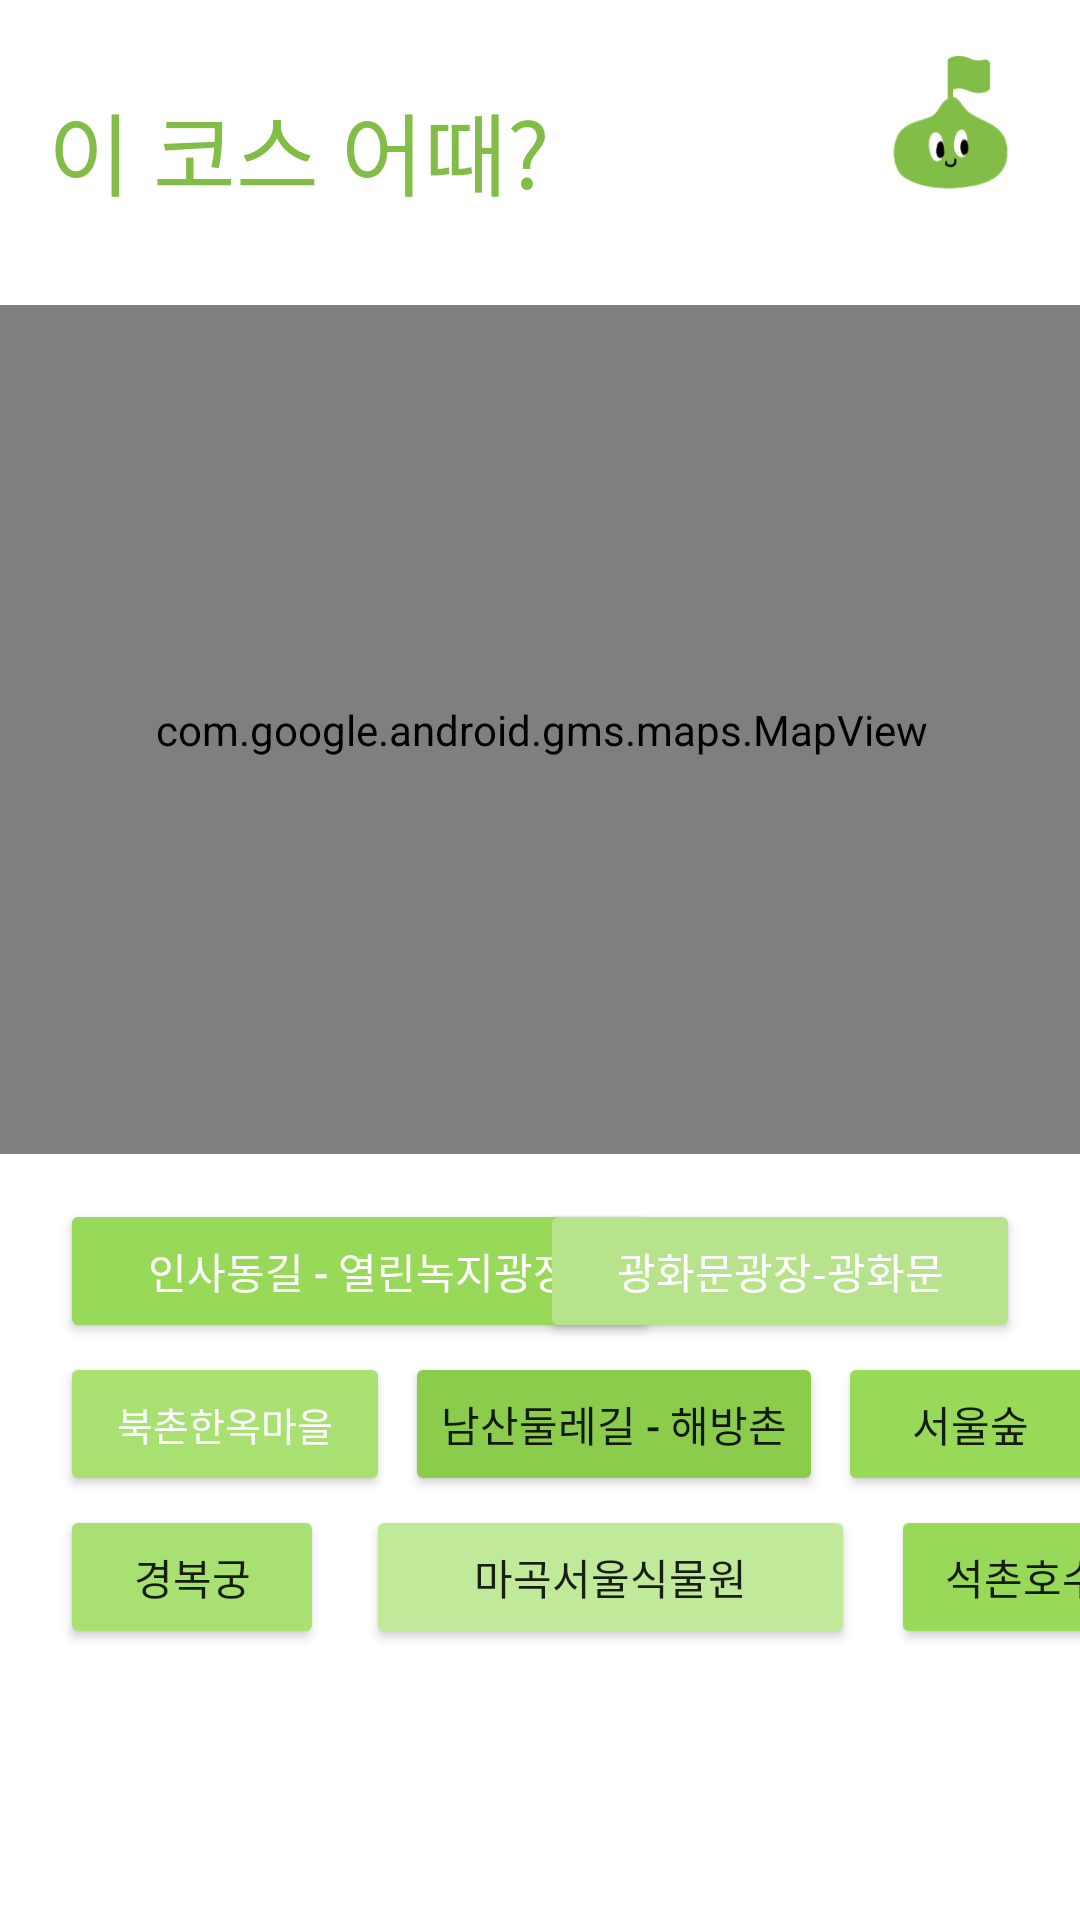

Icon click points for this 1080x1920 phone screenshot, format [x,y]:
mainicon: [950,122]
